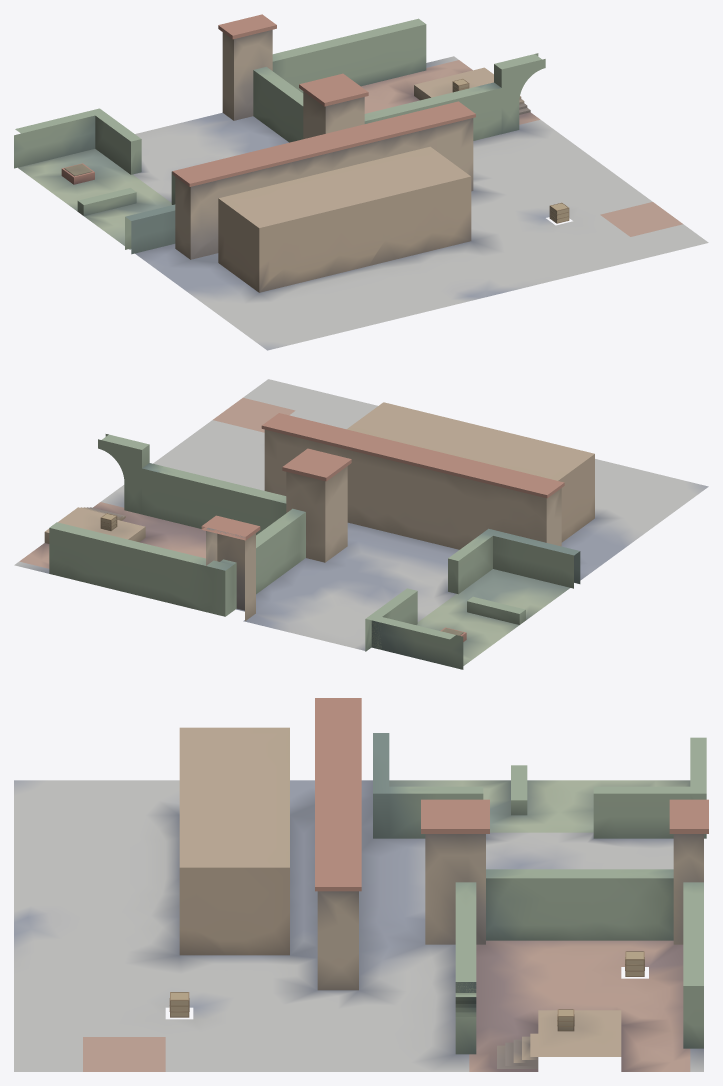
The picture shows the model from 3 angles, top to bottom: view 1: azimuth 30°, elevation 25°; view 2: azimuth 150°, elevation 25°; view 3: azimuth 270°, elevation 25°; orthographic projection. The views are drawn at different scales.
Visible parts, largest first — view 1: t; view 2: t; view 3: t.
Boxes of the visible parts, <box> form: t: <box>14,14,708,350</box>; t: <box>14,379,708,669</box>; t: <box>14,698,708,1071</box>.
Bounding box in the file's own units: 50.4 × 9.4 × 50.36.
